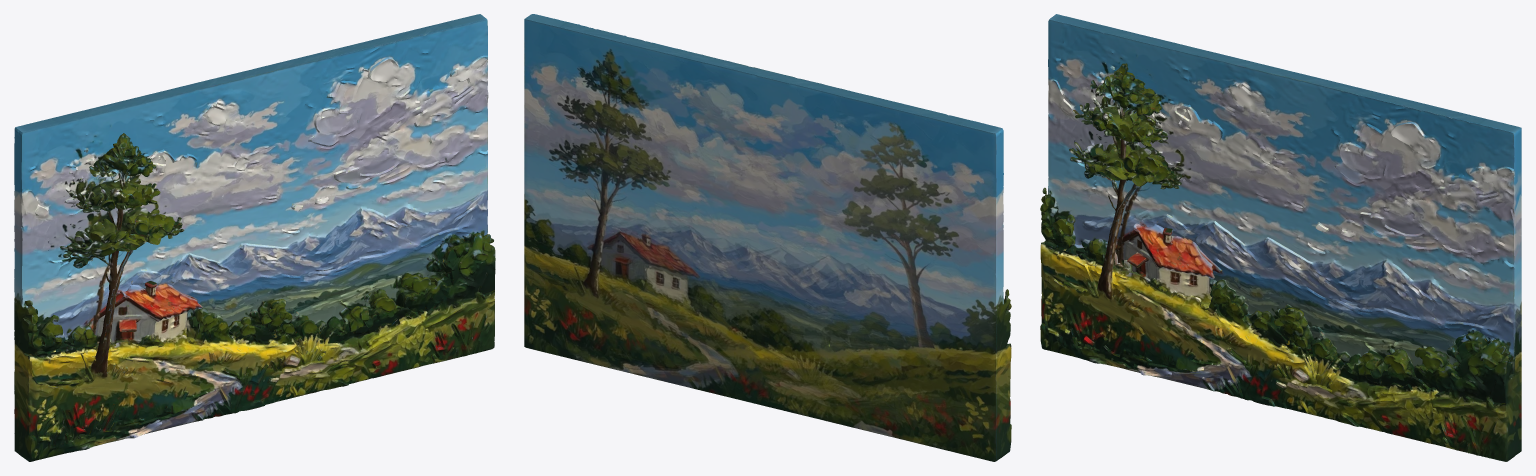
File: Meshy_AI_Alpine_Meadow_Cottage_0920092539_texture.glb
3 views of the same model, side by side, from view 1: azimuth 30°, elevation 25°; view 2: azimuth 150°, elevation 25°; view 3: azimuth 330°, elevation 25° (orthographic).
Parts seen in each view (by area): view 1: Mesh_0; view 2: Mesh_0; view 3: Mesh_0.
Boxes of the visible parts, <box> form: Mesh_0: <box>14,14,495,461</box>; Mesh_0: <box>524,14,1011,461</box>; Mesh_0: <box>1040,14,1521,461</box>.
Size of the model in its own units: 1.9 by 1.27 by 0.222.
Materials: 1 (1 with a texture image).
